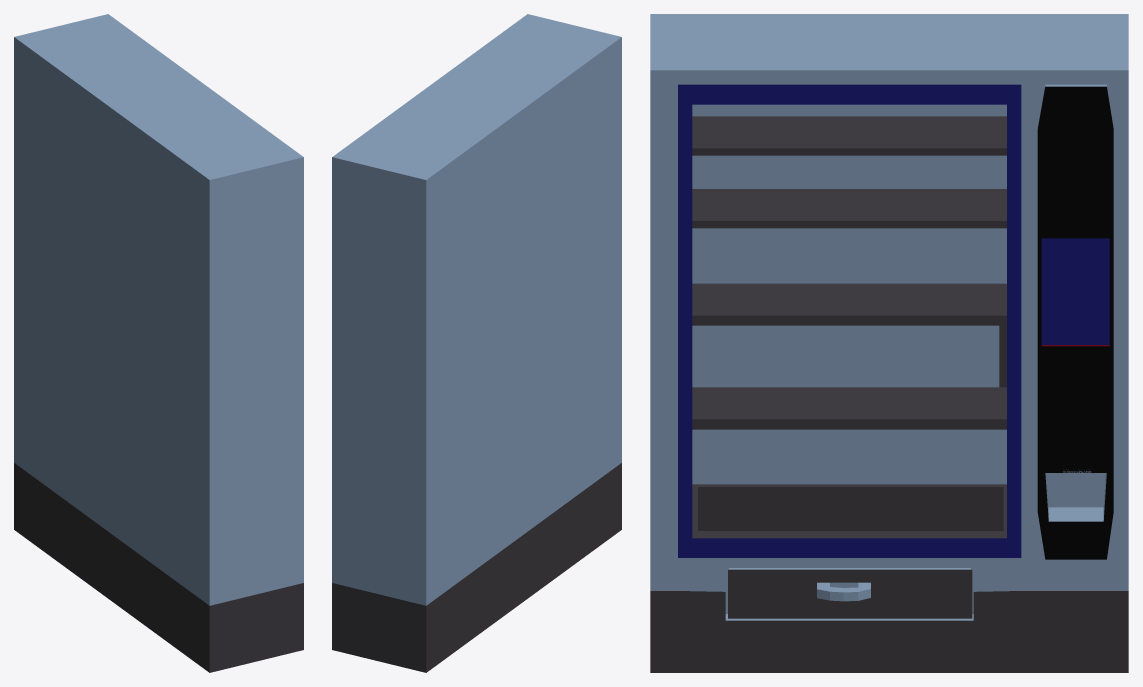
The model's file is VendingMahcine .fbx.
The picture shows the model from 3 angles, left to right: view 1: azimuth 30°, elevation 25°; view 2: azimuth 150°, elevation 25°; view 3: azimuth 270°, elevation 25°; orthographic projection. The views are drawn at different scales.
Visible parts, largest first — view 1: pCube1; view 2: pCube1; view 3: pCube1.
Part boxes in pixels (x1,y1,x2,y2): pCube1: (14,14,303,672); pCube1: (332,14,621,672); pCube1: (650,14,1128,672).
Size of the model in its own units: 2.33 by 10 by 7.19.
